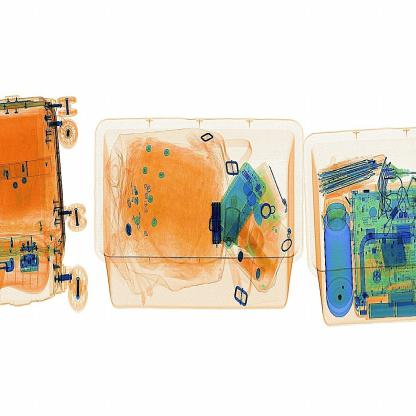scissors: (206, 194, 240, 258)
